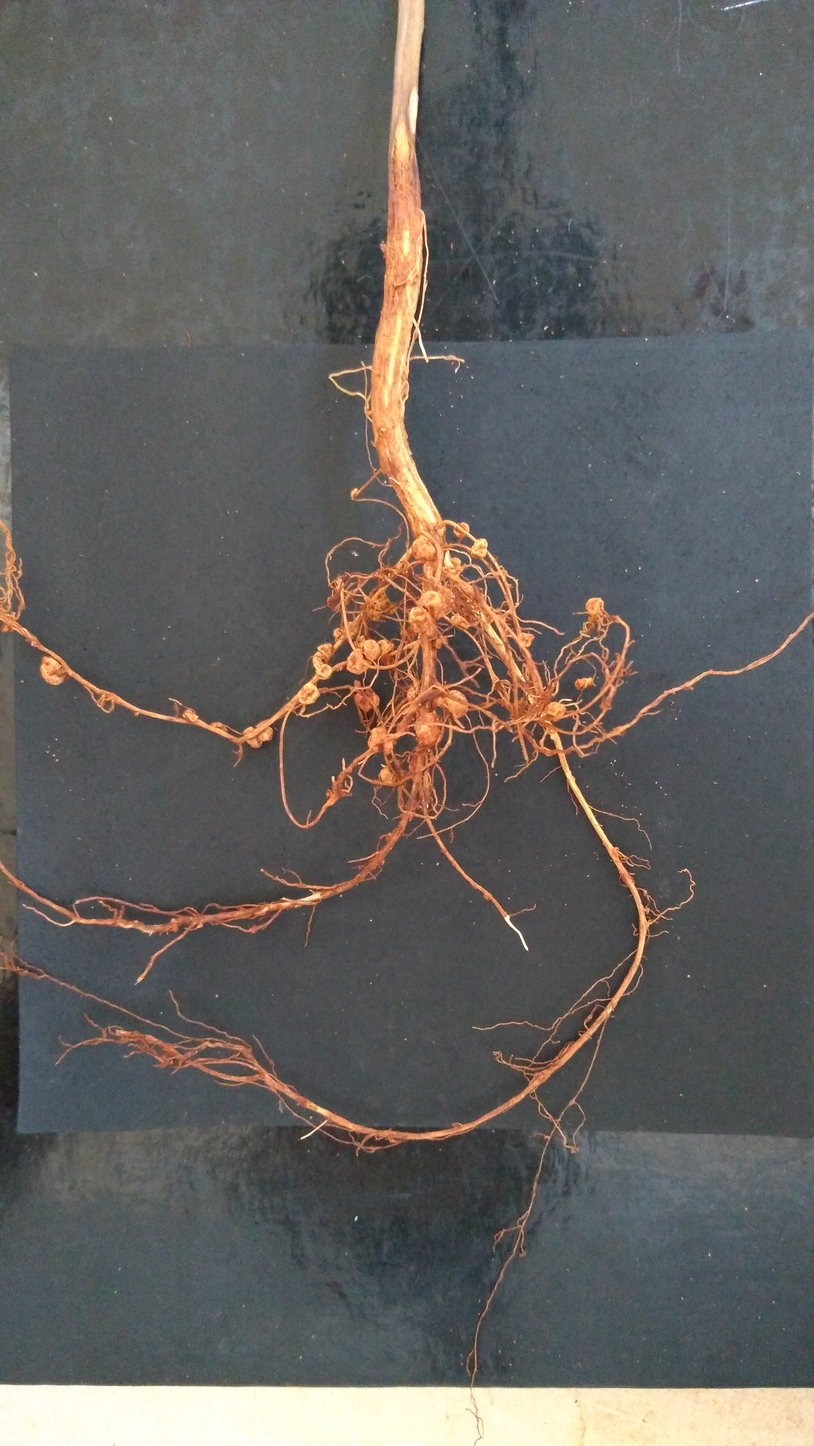nodule: (408, 591, 447, 633), (415, 712, 445, 746), (40, 655, 67, 685), (312, 643, 332, 681), (443, 690, 469, 717), (364, 639, 395, 660), (346, 648, 371, 674), (243, 727, 273, 748), (451, 612, 486, 629), (435, 585, 455, 614), (412, 535, 436, 559), (354, 689, 380, 711), (409, 747, 429, 775), (298, 682, 320, 705), (465, 587, 487, 609), (333, 622, 358, 641), (368, 727, 386, 752), (544, 701, 565, 722), (585, 597, 604, 617), (373, 598, 389, 620), (470, 539, 488, 558), (1, 612, 16, 633), (378, 767, 396, 784), (366, 603, 382, 622), (517, 632, 535, 647), (574, 677, 594, 690), (453, 522, 469, 537), (446, 558, 461, 573), (182, 709, 199, 722), (422, 561, 434, 579), (211, 722, 228, 733), (333, 577, 344, 594), (435, 636, 448, 650), (407, 686, 419, 700), (354, 636, 365, 648), (380, 243, 388, 259), (354, 680, 362, 689), (351, 488, 358, 498), (645, 906, 650, 914), (325, 791, 330, 798), (644, 889, 648, 894)
